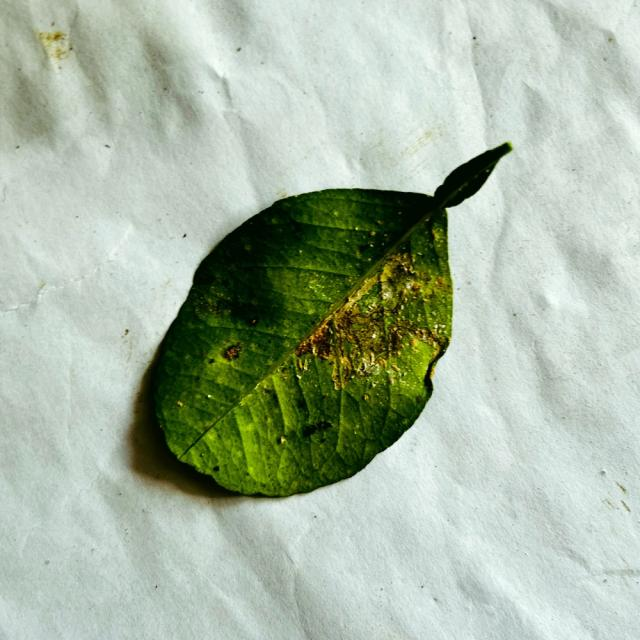Bacterial_Blight: (299, 250, 442, 391), (325, 297, 383, 385), (314, 314, 381, 389), (403, 284, 453, 382), (382, 315, 437, 367), (295, 317, 336, 362), (377, 252, 416, 297), (345, 310, 381, 334), (330, 354, 347, 391), (387, 326, 407, 354)
Lemon: (138, 145, 511, 502)
